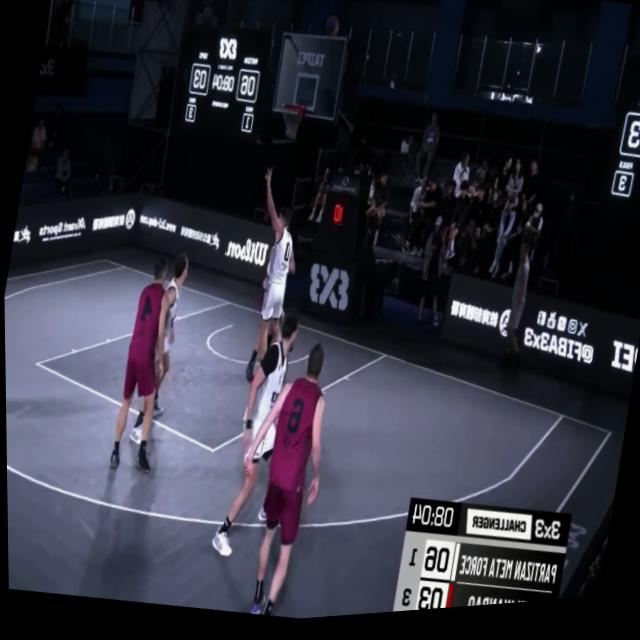hoop: (274, 102, 307, 152)
player: (214, 327, 346, 628), (213, 305, 316, 582), (95, 256, 185, 484), (230, 163, 314, 379), (122, 247, 197, 452)
